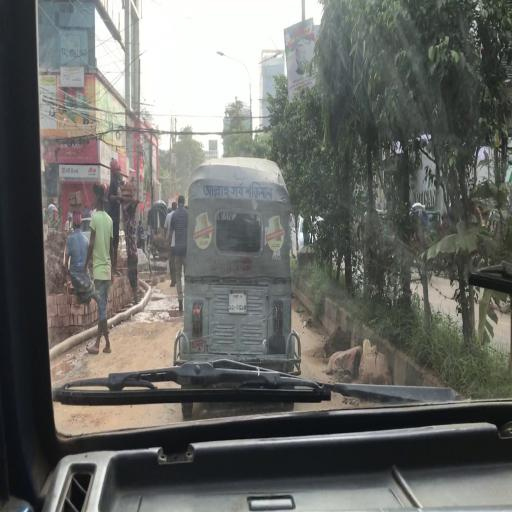car: (68, 217, 129, 266)
rickshaw: (149, 207, 174, 278), (410, 205, 432, 277), (46, 203, 61, 235)
three wheelers (CNG): (174, 156, 302, 418)
